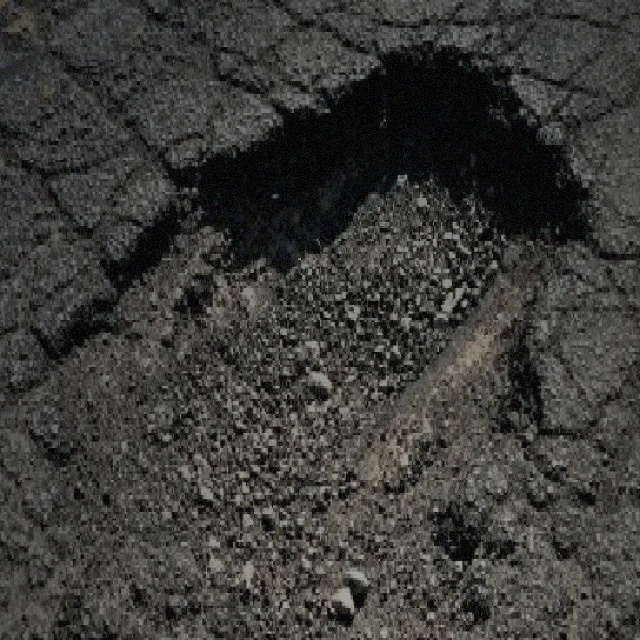pothole: (16, 38, 599, 638)
